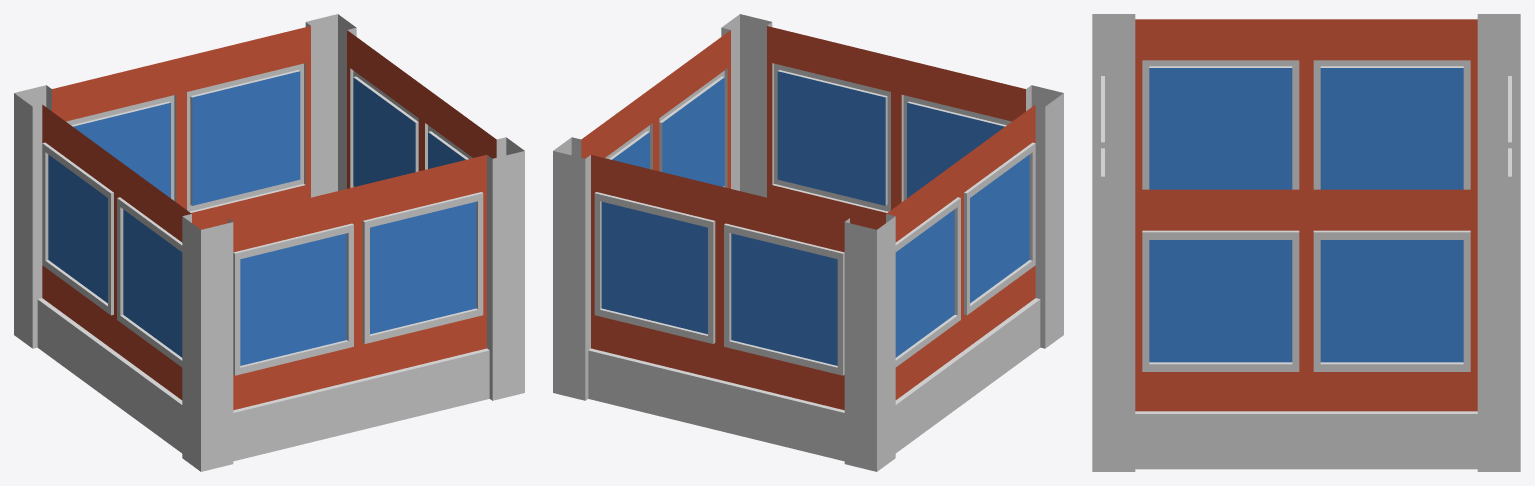
3 renders of one model, left to right at view 1: azimuth 30°, elevation 25°; view 2: azimuth 150°, elevation 25°; view 3: azimuth 270°, elevation 25°, orthographic. The views are drawn at different scales.
Visible parts, largest first — view 1: 00a_Base; view 2: 00a_Base; view 3: 00a_Base.
Boxes of the visible parts, x1,y1,x2,y2 form: 00a_Base: (14, 14, 524, 471); 00a_Base: (553, 14, 1063, 471); 00a_Base: (1092, 14, 1520, 471).
Size of the model in its own units: 35 by 35 by 25.
